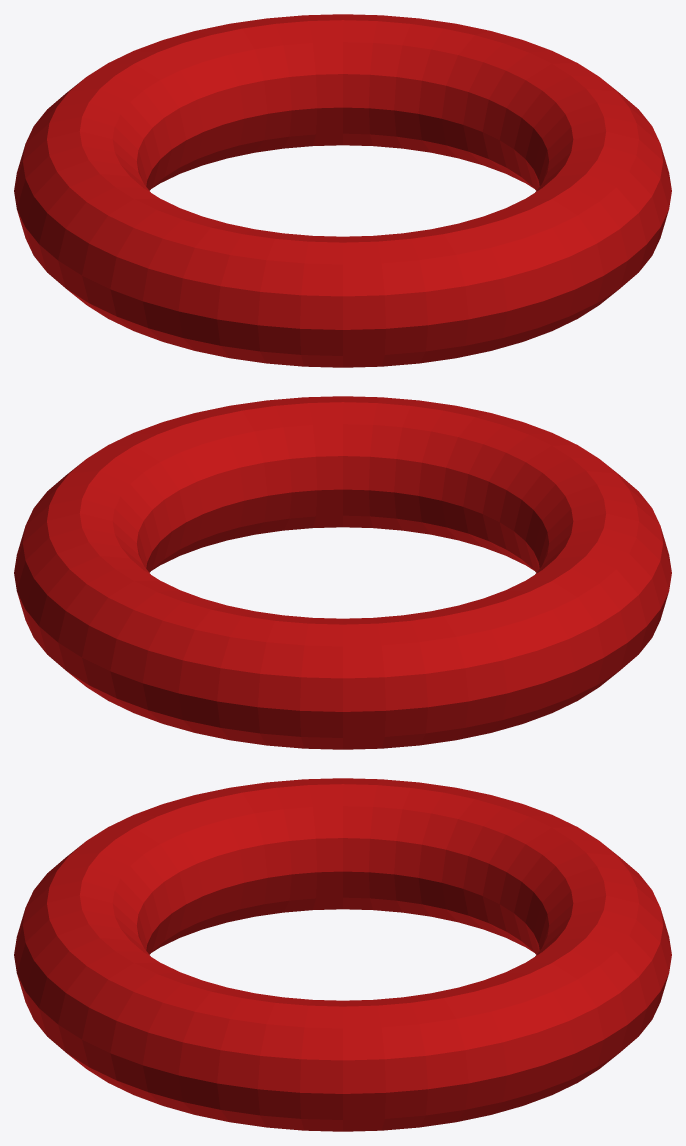
The model's file is donut.glb.
3 views of the same model, one above another, from view 1: azimuth 30°, elevation 25°; view 2: azimuth 150°, elevation 25°; view 3: azimuth 270°, elevation 25° (orthographic).
Visible parts, largest first — view 1: Torus; view 2: Torus; view 3: Torus.
Part boxes in pixels (x1,y1,x2,y2): Torus: (14,14,671,367); Torus: (14,396,671,749); Torus: (14,778,671,1131).
Size of the model in its own units: 2.5 by 0.5 by 2.5.
